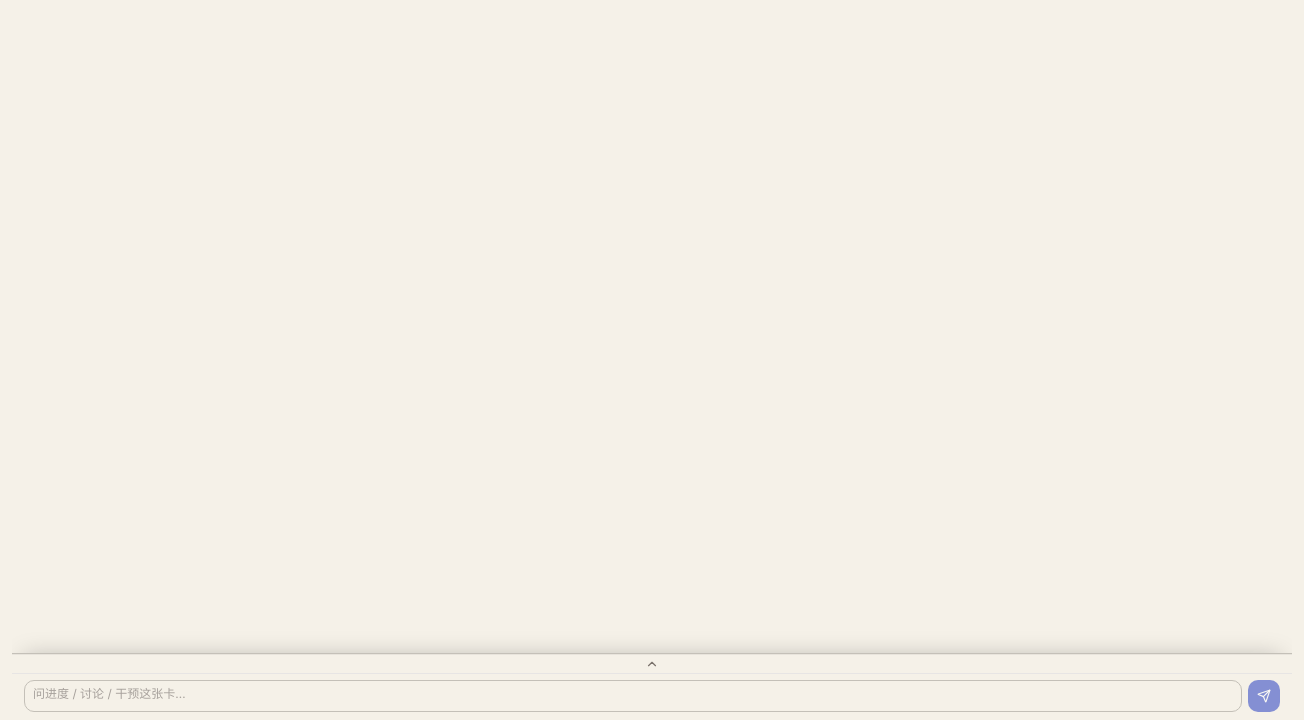
CardConsultPanel › 清空对话：二次确认后调 clearCardConversation 并刷新（确认前不清）
This screenshot has width=1304, height=720.
Click the button named "询问 Agent" at (652, 664), box [12,654,1292,673]
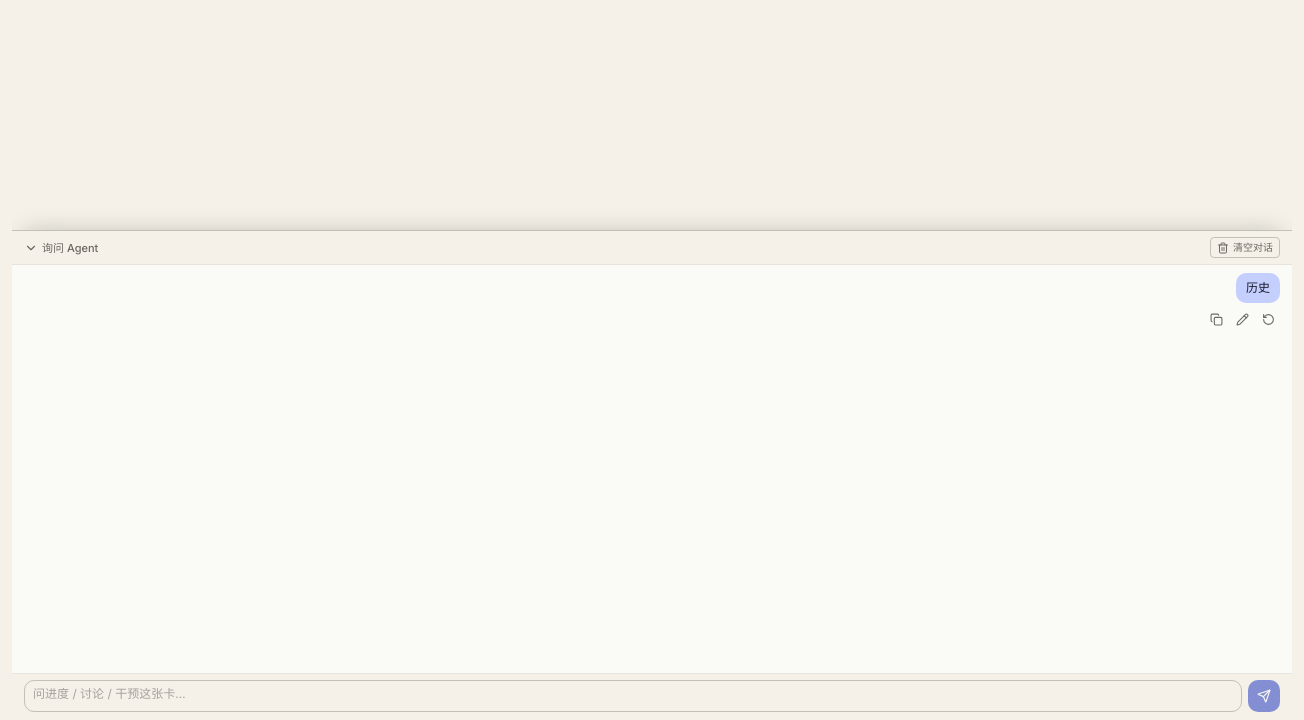
Click the button "清空对话" at (1245, 248), box [1210,237,1280,258]
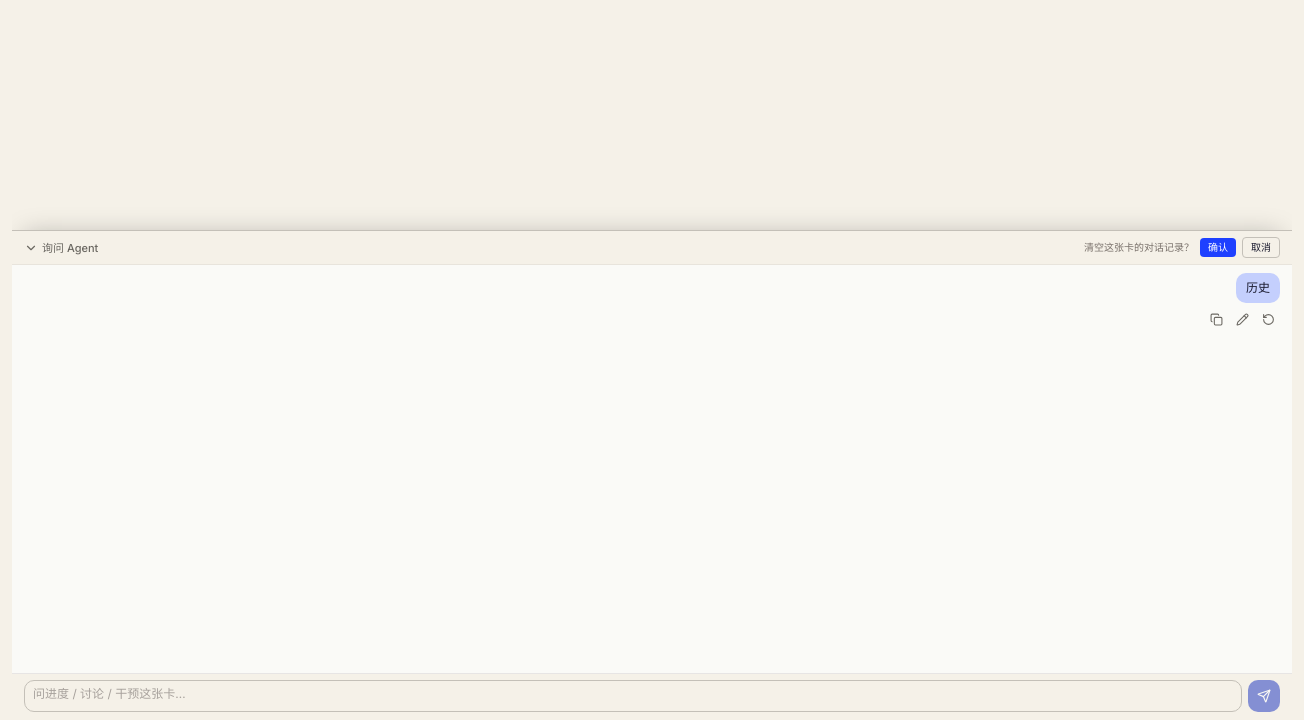
Click the button "确认" at (1218, 248), box [1200,238,1236,257]
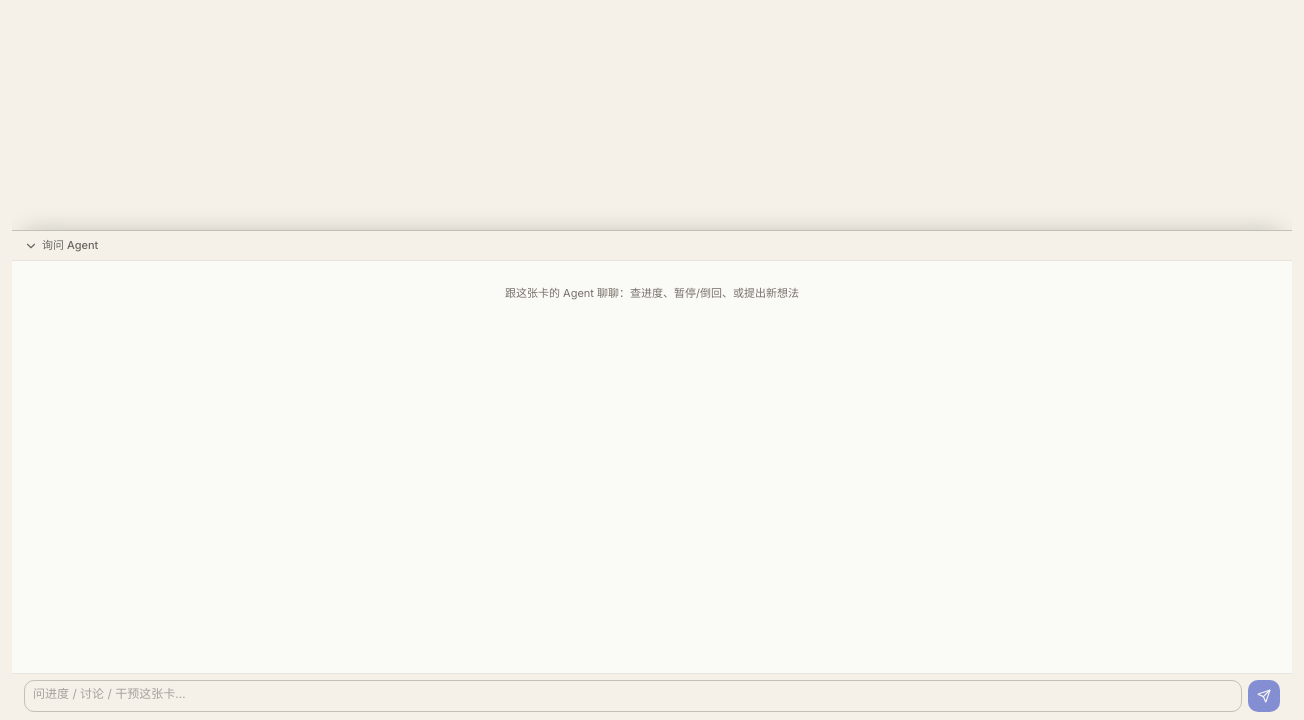
Check: the text "历史" is gone
